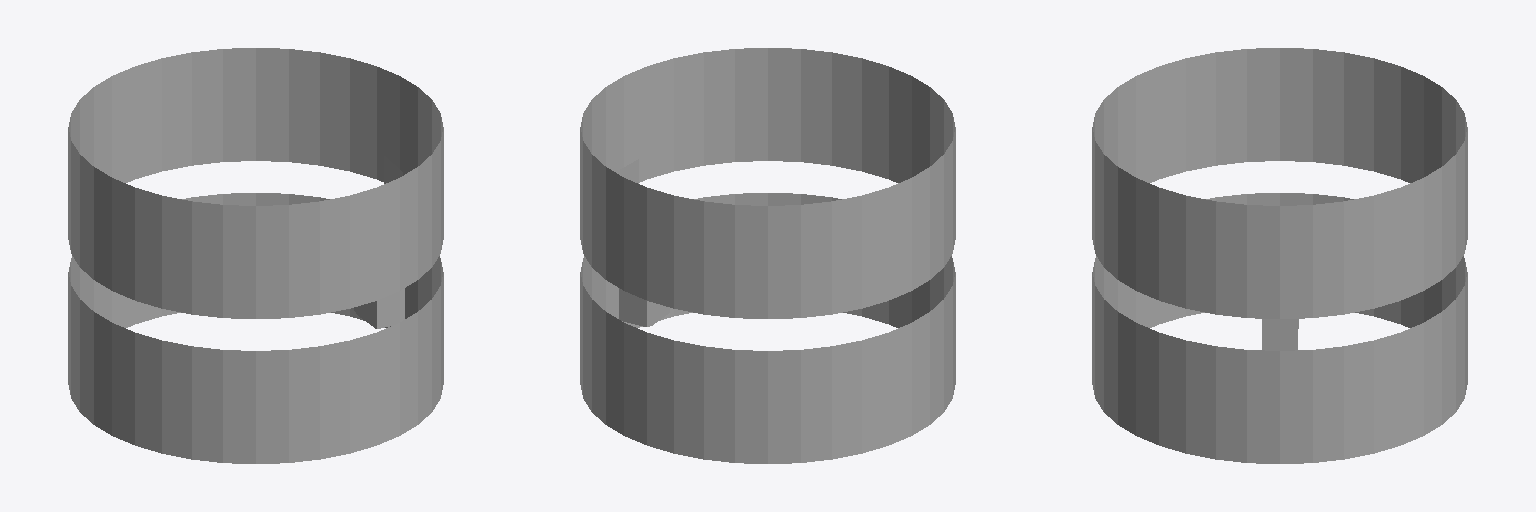
File: SceneAufzug.obj
3 renders of one model, left to right at view 1: azimuth 30°, elevation 25°; view 2: azimuth 150°, elevation 25°; view 3: azimuth 270°, elevation 25°, orthographic.
Visible parts, largest first — view 1: zylinderOben, zylinderUnten, Aufzug; view 2: zylinderOben, zylinderUnten, Aufzug; view 3: zylinderOben, zylinderUnten, Wand.
Part boxes in pixels (left/top/right/bottom): zylinderOben: left=68, top=48, right=443, bottom=318; zylinderUnten: left=68, top=193, right=443, bottom=463; Aufzug: left=354, top=288, right=404, bottom=328; zylinderOben: left=580, top=48, right=955, bottom=318; zylinderUnten: left=580, top=193, right=955, bottom=463; Aufzug: left=619, top=288, right=669, bottom=326; zylinderOben: left=1092, top=48, right=1467, bottom=318; zylinderUnten: left=1092, top=193, right=1467, bottom=463; Wand: left=1262, top=319, right=1298, bottom=350.
Bounding box in the file's own units: 600 × 456 × 600.